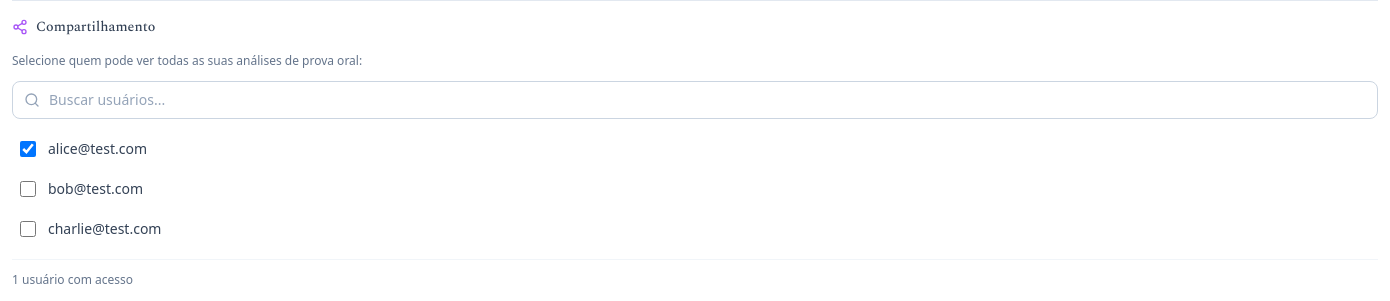
it: SharingSection › Search Filter › should filter case-insensitively
expect the number of checkboxes is 3: met, box 20,141 -> 36,157; 20,181 -> 36,197; 20,221 -> 36,237
Type "BOB" into the field with placeholder "Buscar usuários..." at (695, 100), box 12,81 -> 1378,119
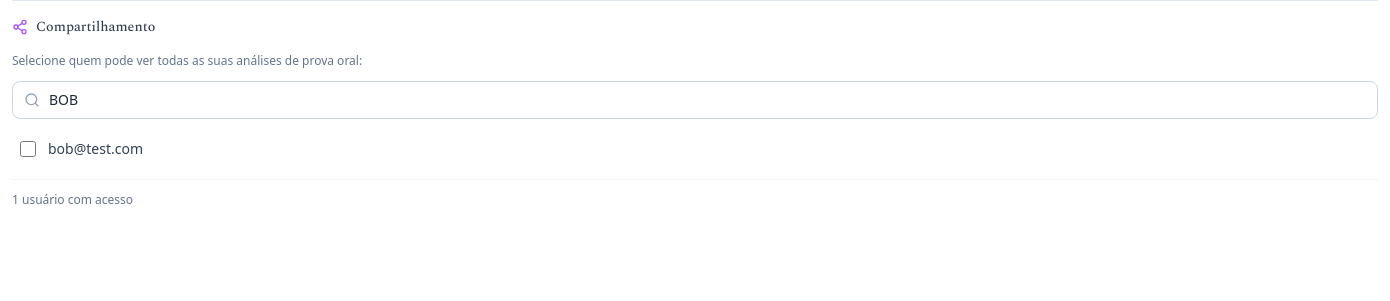
expect the text "bob@test.com" is shown: met, box 48,139 -> 143,159
expect the text "alice@test.com" is gone: met
